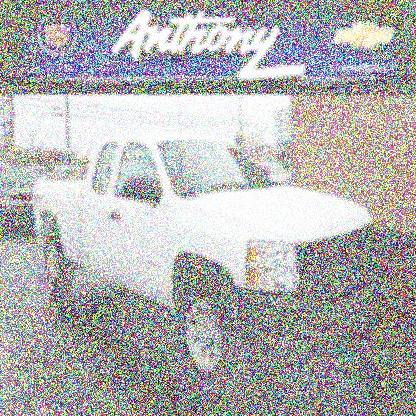Vehicle: (33, 132, 385, 388)
